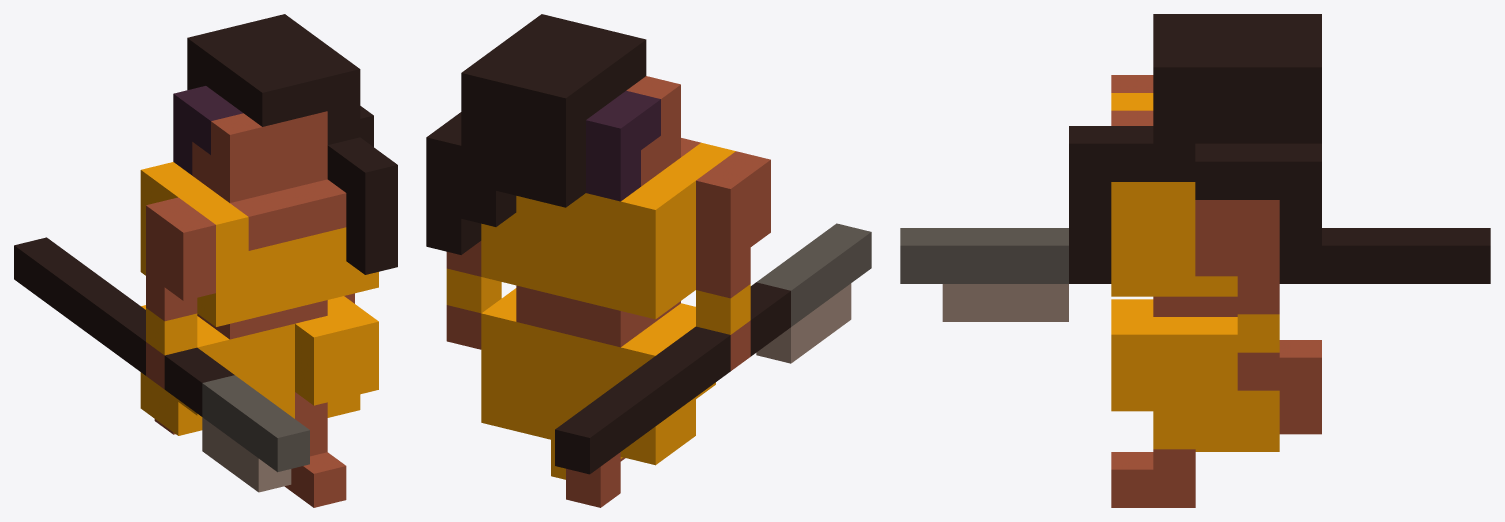
Rendered from amazon_walk_2.obj.
3 views of the same model, side by side, from view 1: azimuth 30°, elevation 25°; view 2: azimuth 150°, elevation 25°; view 3: azimuth 270°, elevation 25° (orthographic). The views are drawn at different scales.
Size of the model in its own units: 0.7 by 1.2 by 1.4.
1 material, 1 textured.
